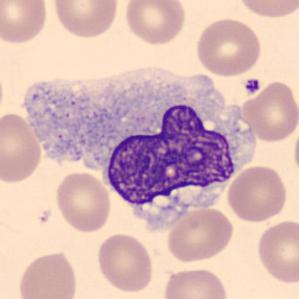Monocyte: (21, 56, 258, 230)
Platelets: (242, 76, 262, 96)
RBC: (164, 204, 236, 264), (194, 16, 264, 77), (224, 163, 289, 223), (240, 78, 298, 143), (96, 232, 156, 294), (53, 171, 113, 233), (15, 248, 79, 299), (0, 110, 43, 184), (122, 0, 188, 46), (254, 217, 298, 285), (51, 0, 121, 40), (160, 266, 230, 299), (0, 0, 50, 45), (234, 0, 298, 20), (292, 122, 299, 180), (0, 65, 6, 123)
